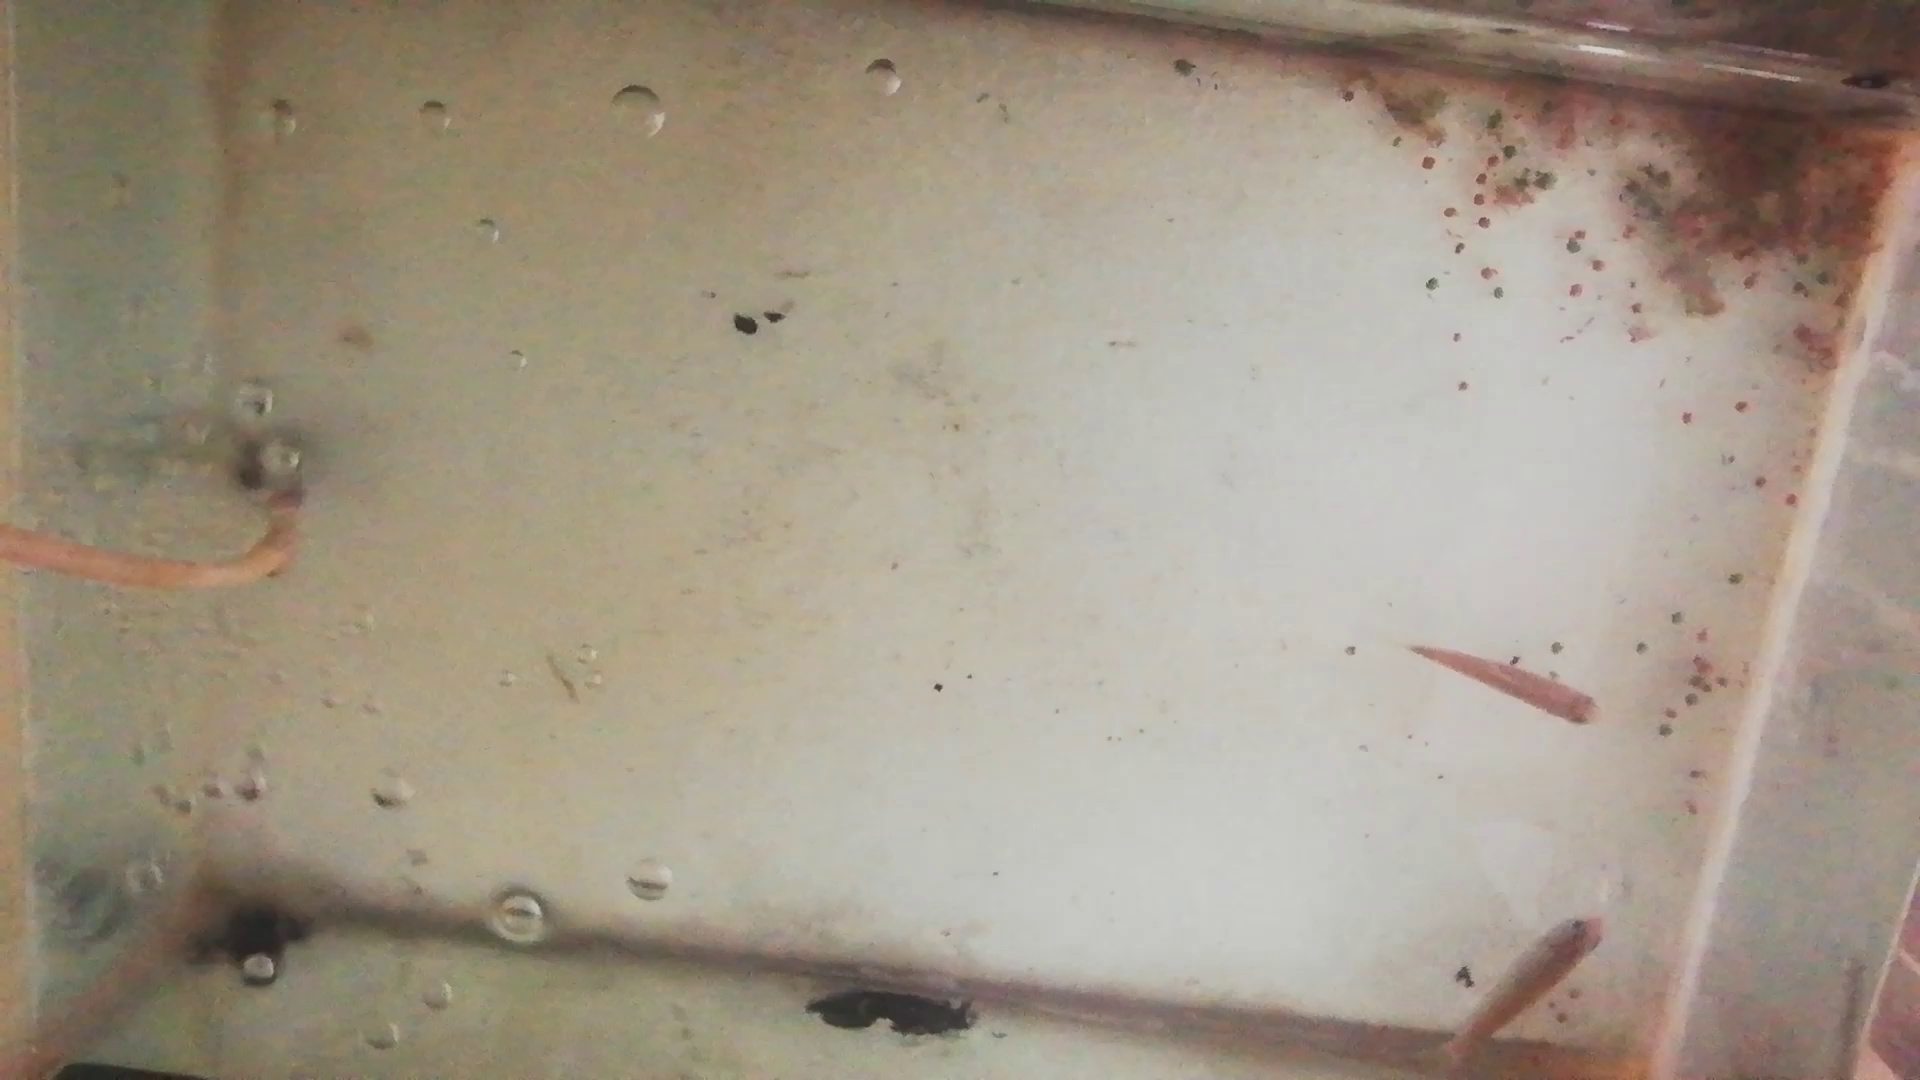fish: (1448, 914, 1607, 1058), (1406, 644, 1604, 729)
